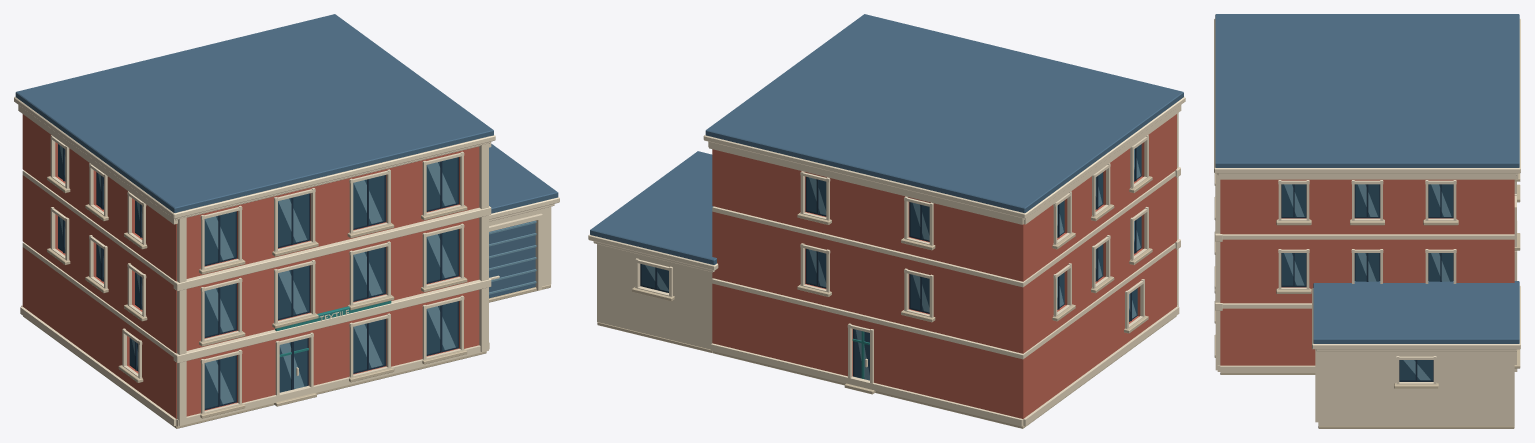
The model's file is textile_factory.glb.
The picture shows the model from 3 angles, left to right: view 1: azimuth 30°, elevation 25°; view 2: azimuth 150°, elevation 25°; view 3: azimuth 270°, elevation 25°; orthographic projection. The views are drawn at different scales.
Parts seen in each view (by area): view 1: TextileFactory_StaticMesh; view 2: TextileFactory_StaticMesh; view 3: TextileFactory_StaticMesh.
Part boxes in pixels (left/top/right/bottom): TextileFactory_StaticMesh: left=14, top=14, right=559, bottom=428; TextileFactory_StaticMesh: left=588, top=14, right=1185, bottom=428; TextileFactory_StaticMesh: left=1214, top=14, right=1520, bottom=428.
Bounding box in the file's own units: 19.72 × 9.66 × 12.52.
